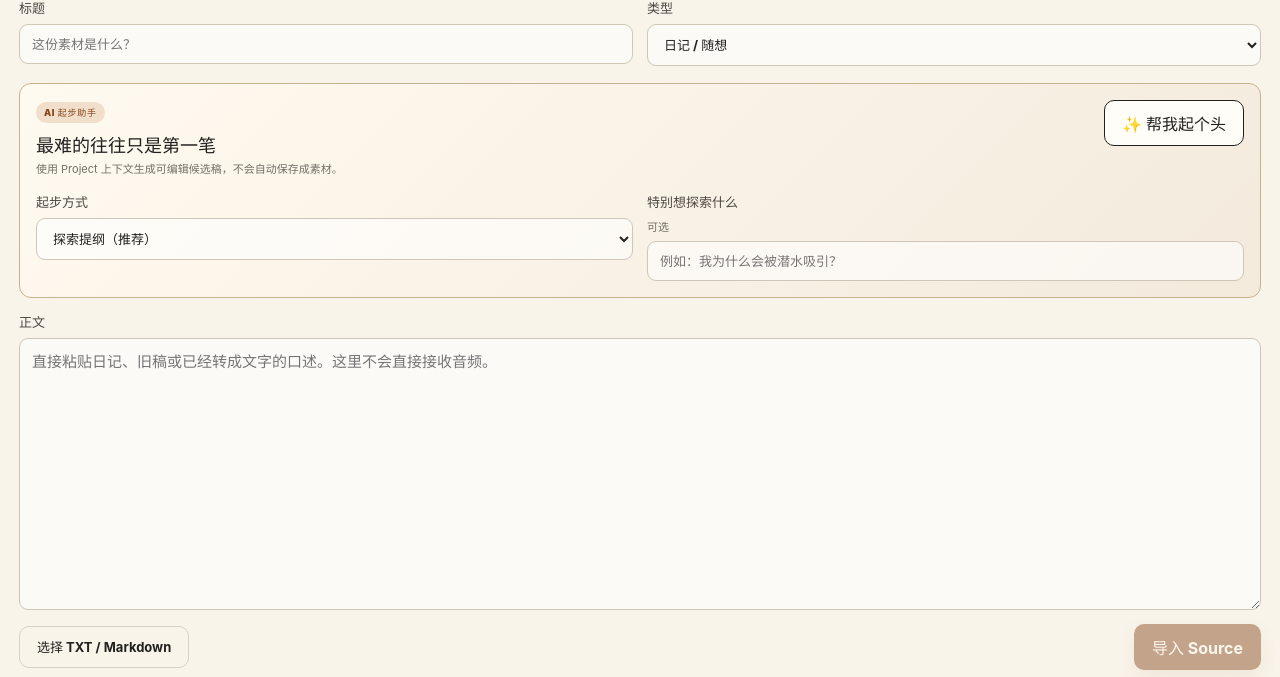
Test case: SourceImporter AI starter › keeps all user input when generation fails
Expected: the button "✨ 帮我起个头" is enabled, [1104,100,1244,146]
Type "潜水学习" into the field labelled "标题".
click(326, 44); type("潜水学习")  # box [19,24,633,64]
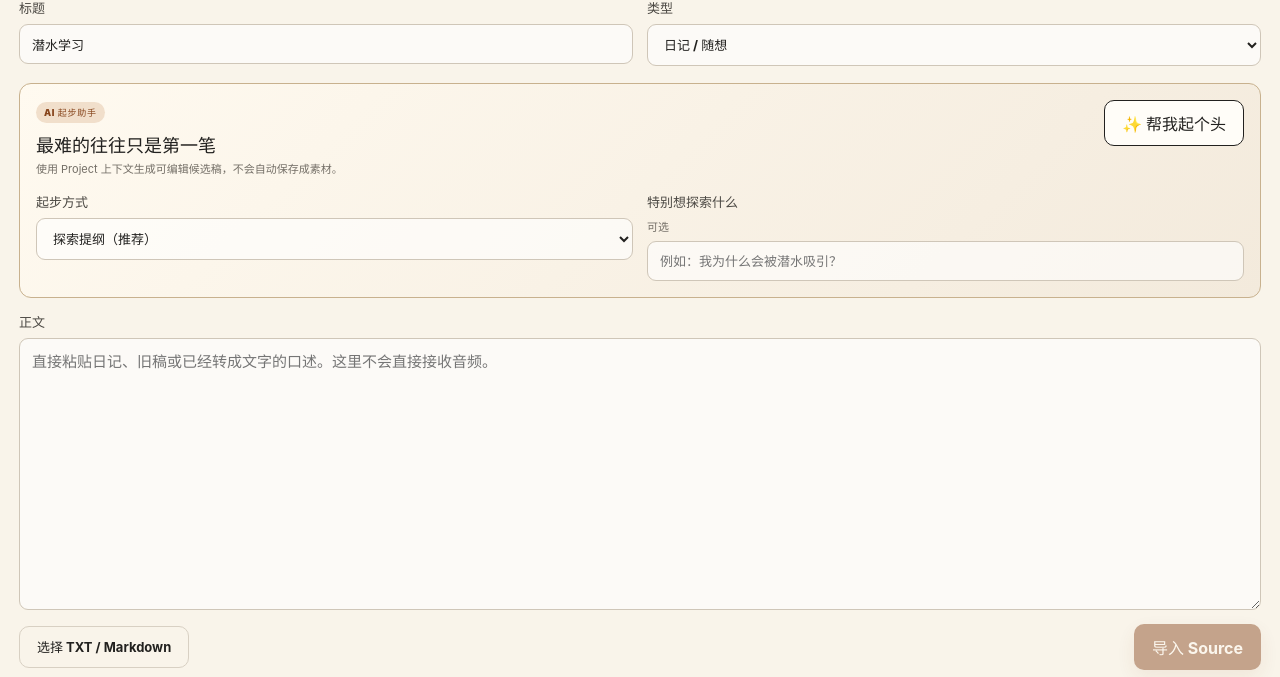
Type "这段不能丢。" into the text box labelled "正文".
click(640, 474); type("这段不能丢。")  # box [19,338,1261,610]
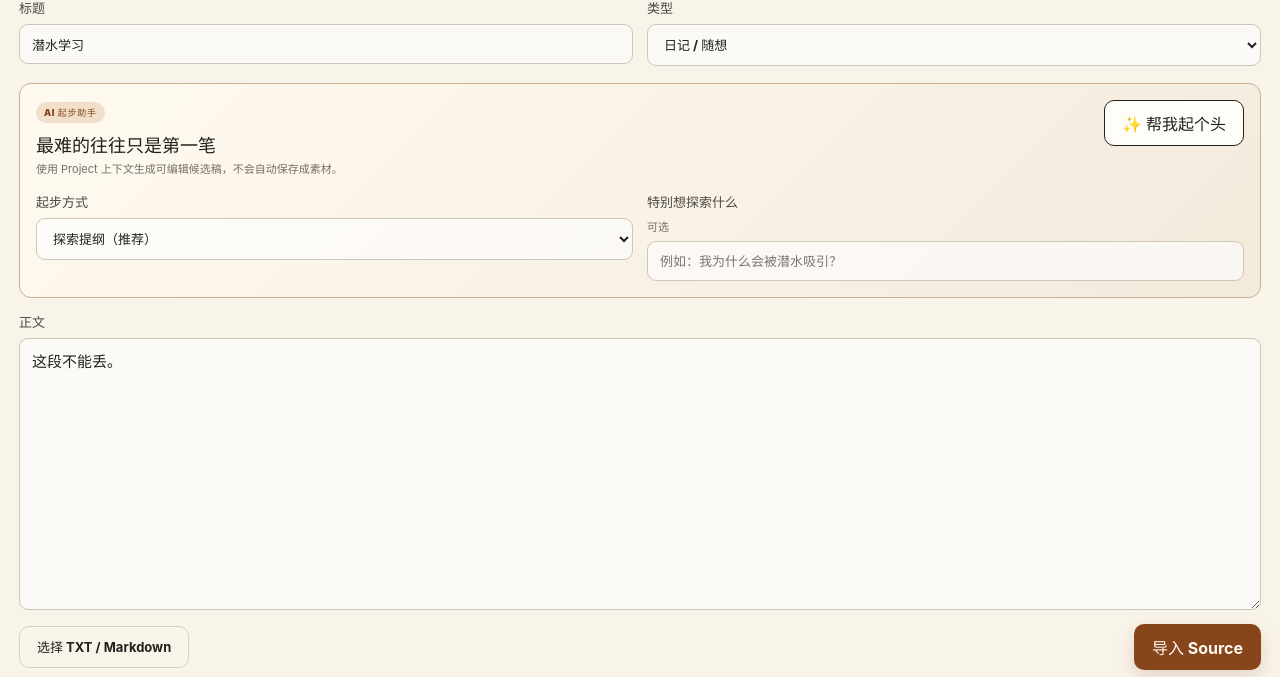
Click the button "✨ 帮我起个头".
click(1174, 123)  # box [1104,100,1244,146]
(page scrolled)
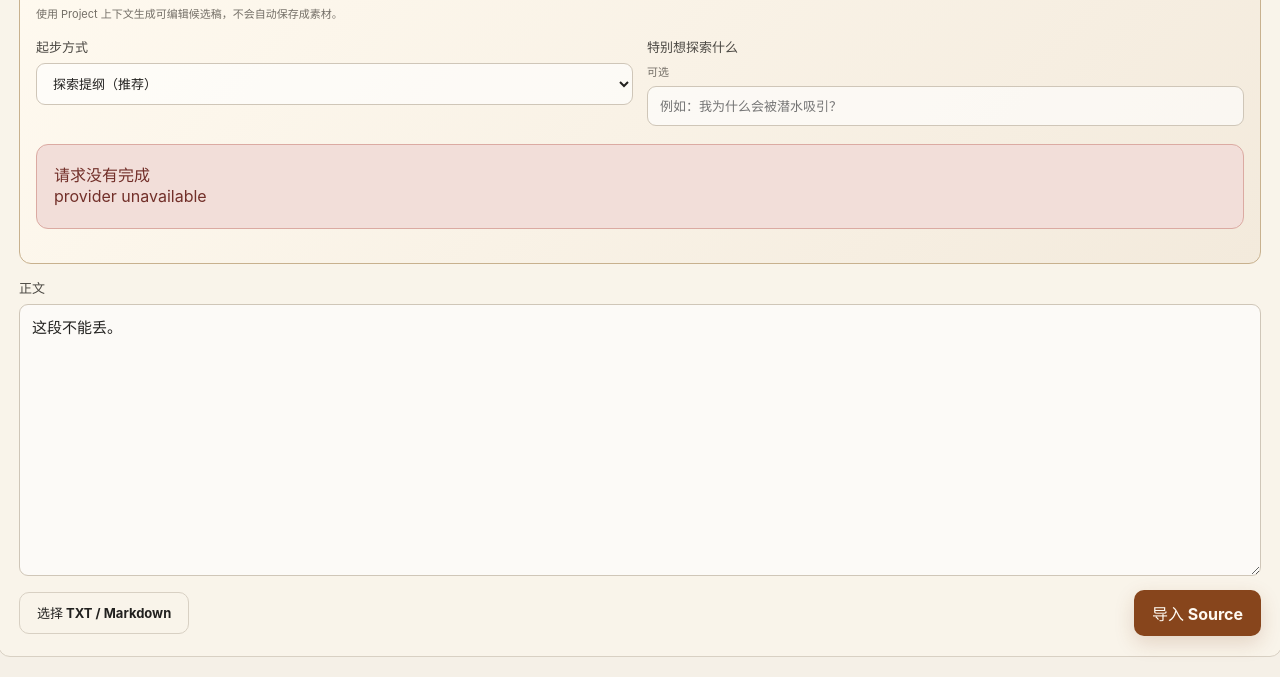
Expected: the text "provider unavailable" is shown, [54,186,207,206]
